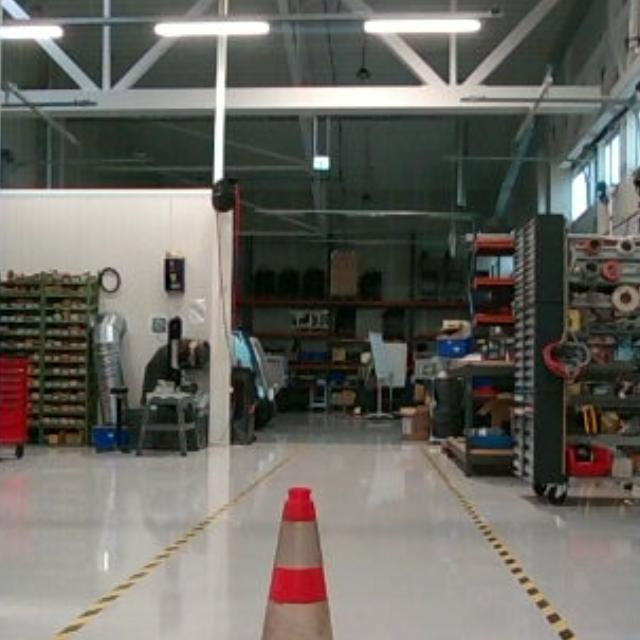Traffic-cone: (210, 484, 376, 640)
